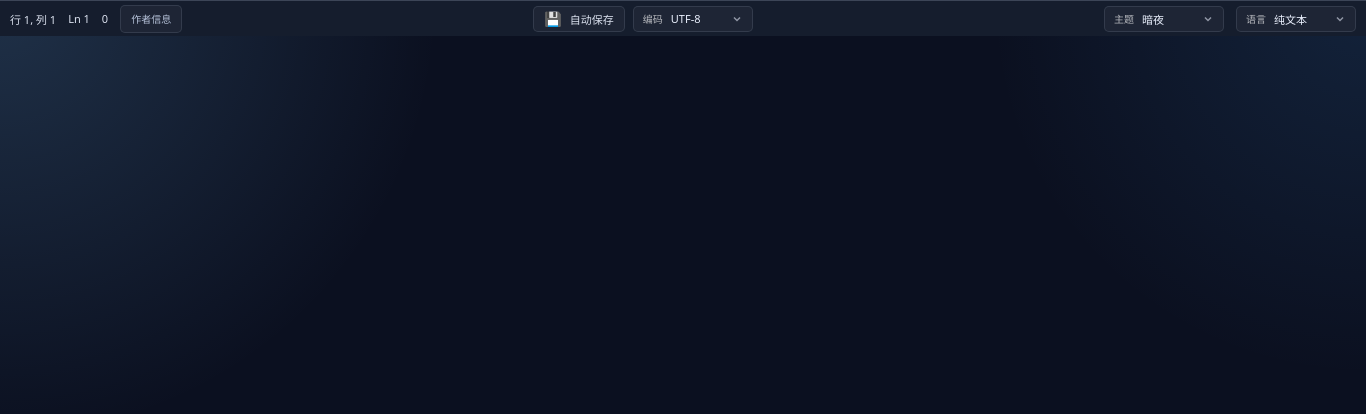
StatusBar.vue › 语言模式选择 › 应支持所有预定义语言选项
What coordinates should you click on to do the following:
click the button with test id "language-mode-display"
I would click on:
 (1310, 18)
Its box is [1274,10,1346,26].
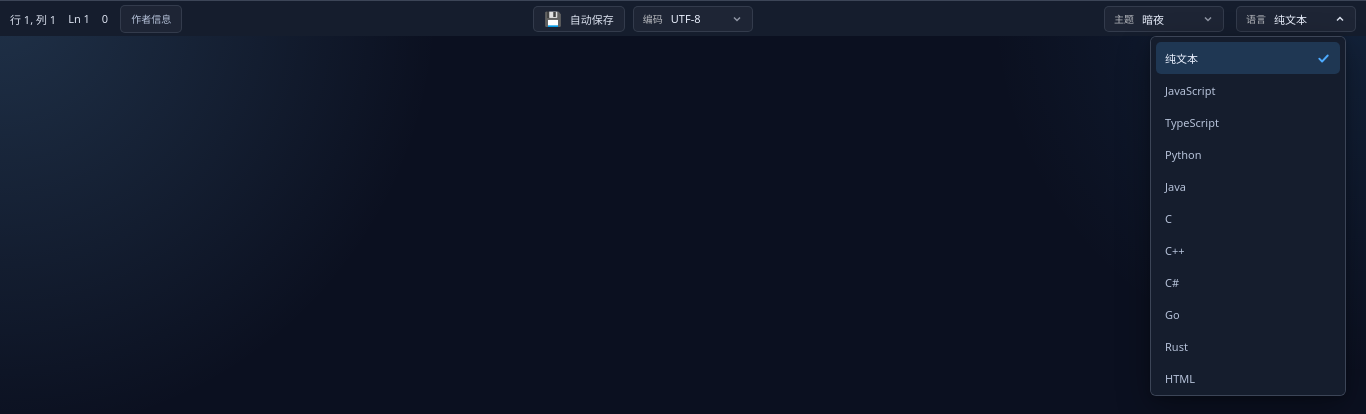
expect the option with test id "language-mode-display-option-plaintext" is shown: met, box [1156,42,1340,74]
expect the option with test id "language-mode-display-option-javascript" is shown: met, box [1156,74,1340,106]
expect the option with test id "language-mode-display-option-typescript" is shown: met, box [1156,106,1340,138]
